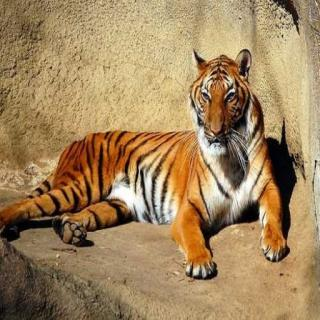Tiger: (7, 48, 309, 269)
